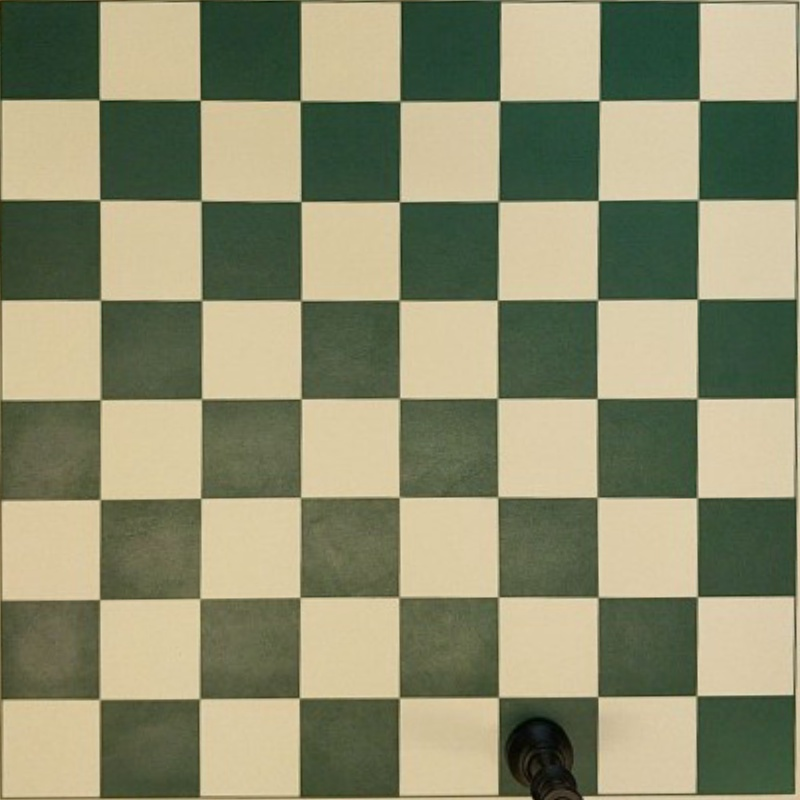black-king: (506, 715, 580, 799)
